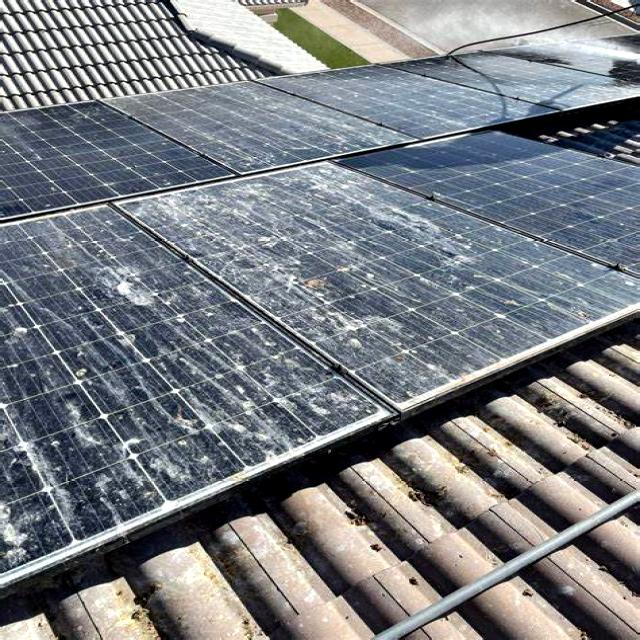bird: (26, 394, 138, 504), (165, 374, 284, 446), (198, 230, 318, 287), (78, 260, 168, 314), (403, 226, 469, 276)
